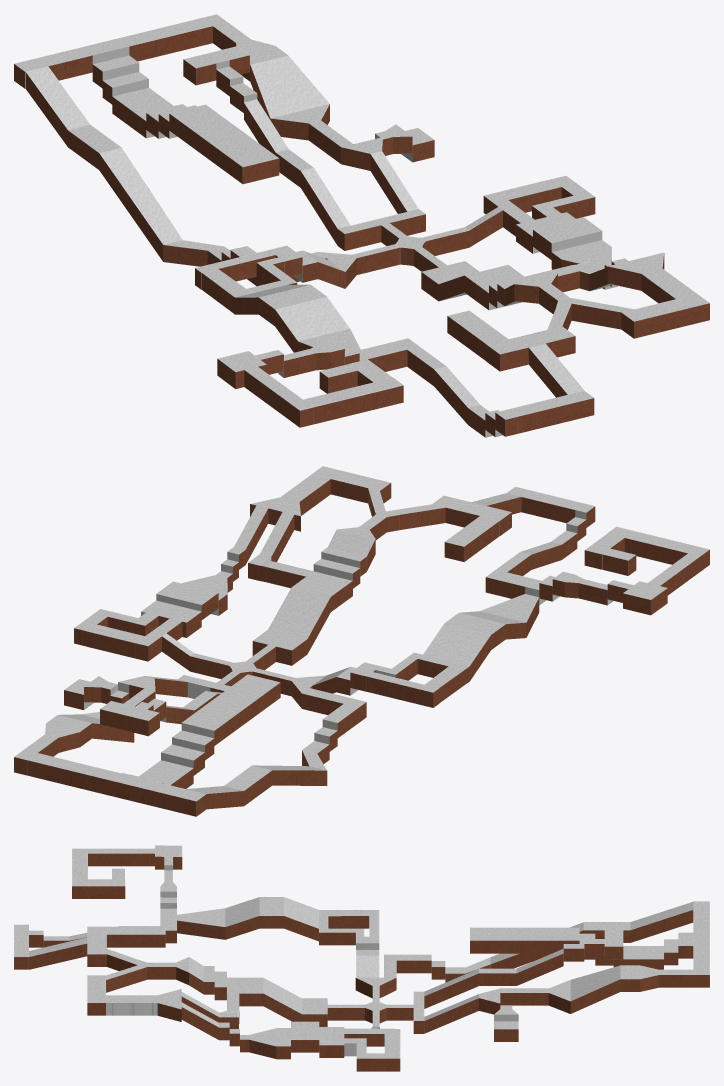
Rendered from cenario_nivel1.fbx.
3 renders of one model, top to bottom at view 1: azimuth 30°, elevation 25°; view 2: azimuth 150°, elevation 25°; view 3: azimuth 270°, elevation 25°, orthographic. The views are drawn at different scales.
Visible parts, largest first — view 1: nivel1; view 2: nivel1; view 3: nivel1.
Boxes of the visible parts, <box> form: nivel1: <box>14,14,709,437</box>; nivel1: <box>14,466,709,816</box>; nivel1: <box>14,845,709,1071</box>.
Size of the model in its own units: 60.64 by 12.99 by 99.15.
1 material, 1 textured.
